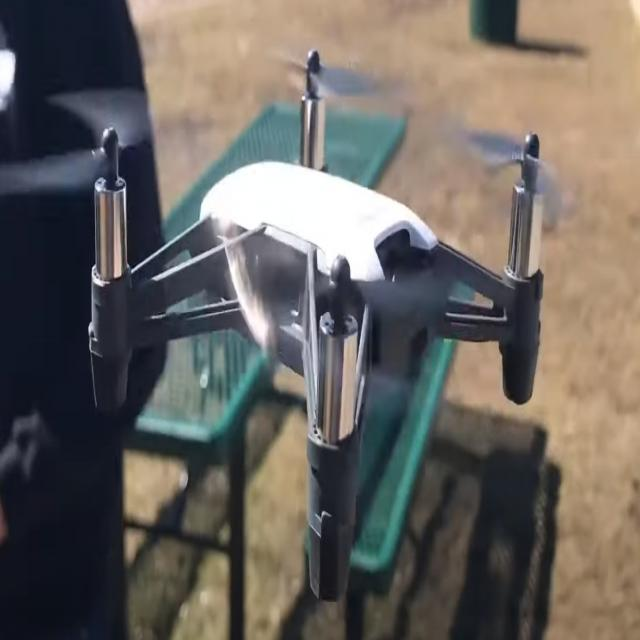drone: (0, 0, 586, 616)
